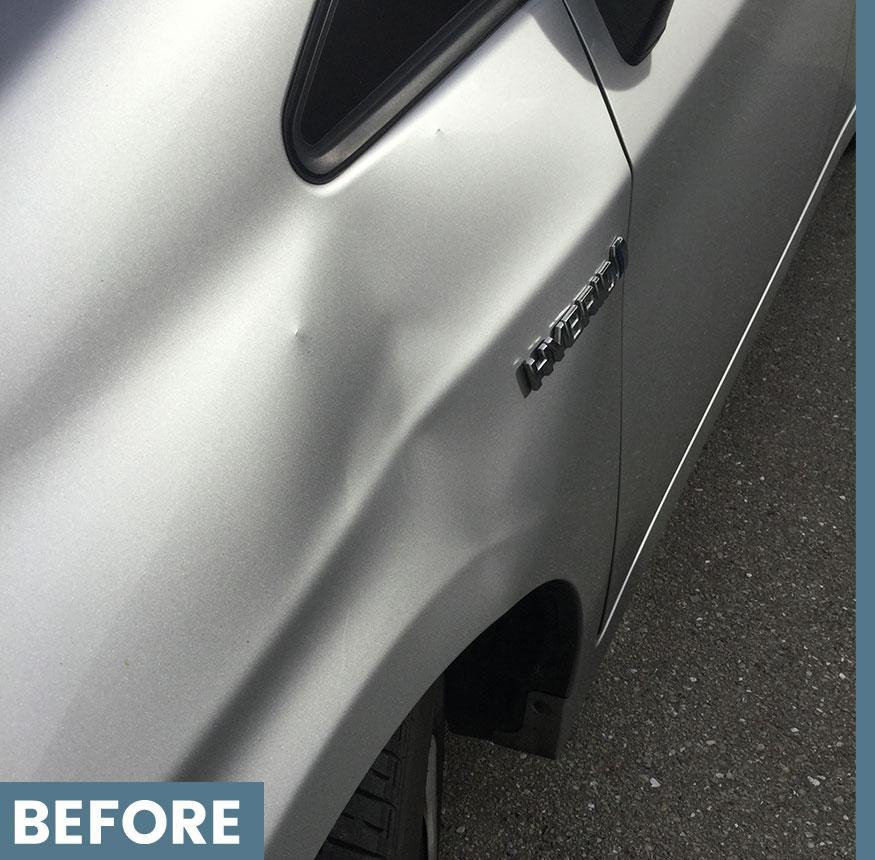dent: (310, 301, 562, 617)
